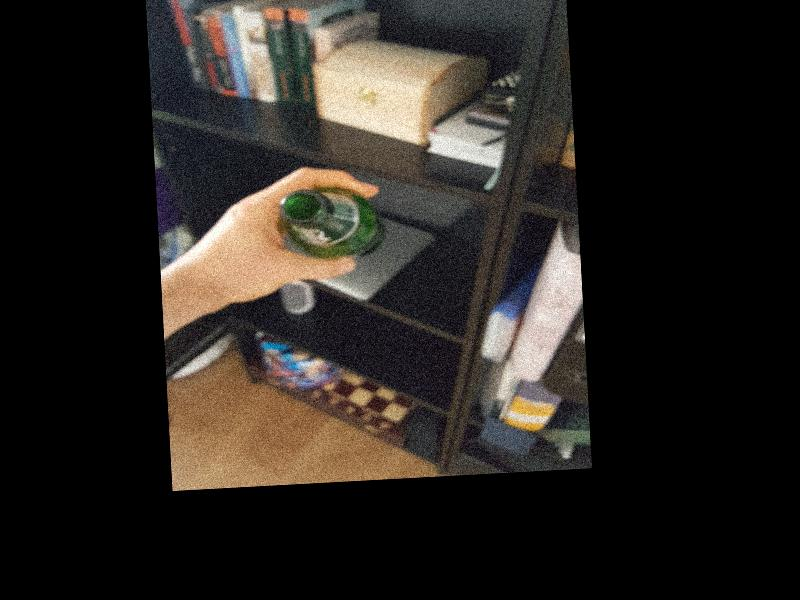Beer: (278, 186, 386, 265)
